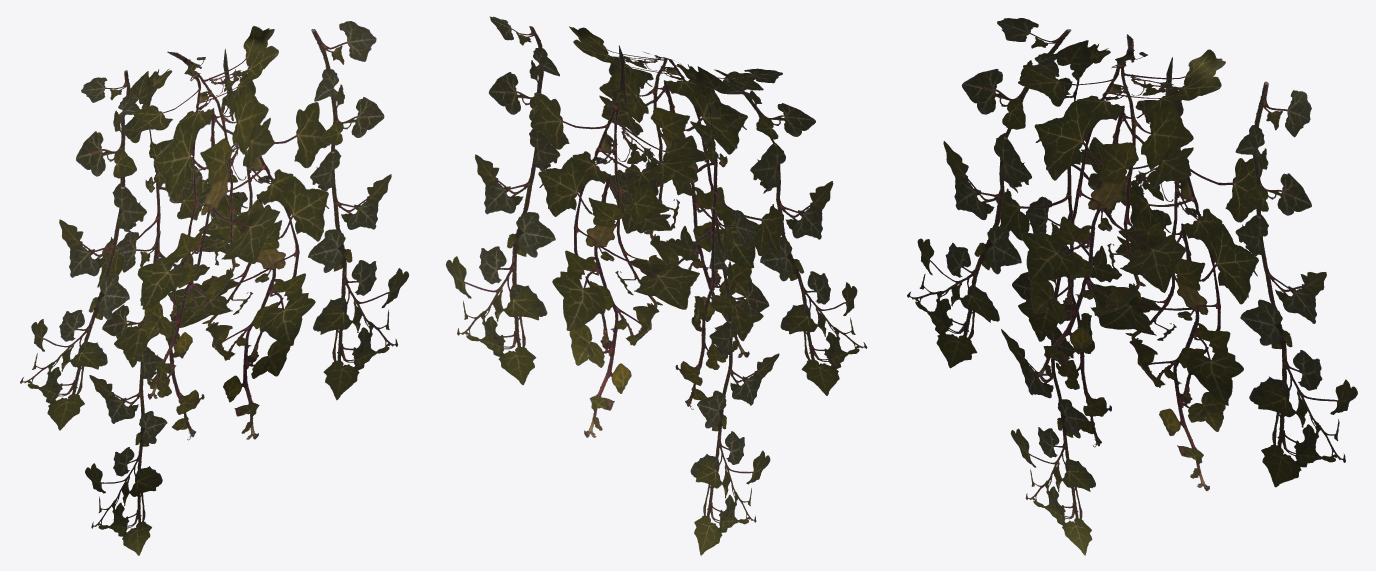
File: Mesh_IvyFoliage-02.fbx
The picture shows the model from 3 angles, left to right: view 1: azimuth 30°, elevation 25°; view 2: azimuth 150°, elevation 25°; view 3: azimuth 330°, elevation 25°; orthographic projection. The views are drawn at different scales.
Parts seen in each view (by area): view 1: Mesh_Ivy-02_LOD0; view 2: Mesh_Ivy-02_LOD0; view 3: Mesh_Ivy-02_LOD0.
Part boxes in pixels (x1=…): Mesh_Ivy-02_LOD0: x1=20, y1=21, x2=409, y2=555; Mesh_Ivy-02_LOD0: x1=445, y1=16, x2=867, y2=555; Mesh_Ivy-02_LOD0: x1=907, y1=18, x2=1357, y2=555.
Size of what is drawn, in the model's own units: 1.45 by 1.7 by 0.2463.
